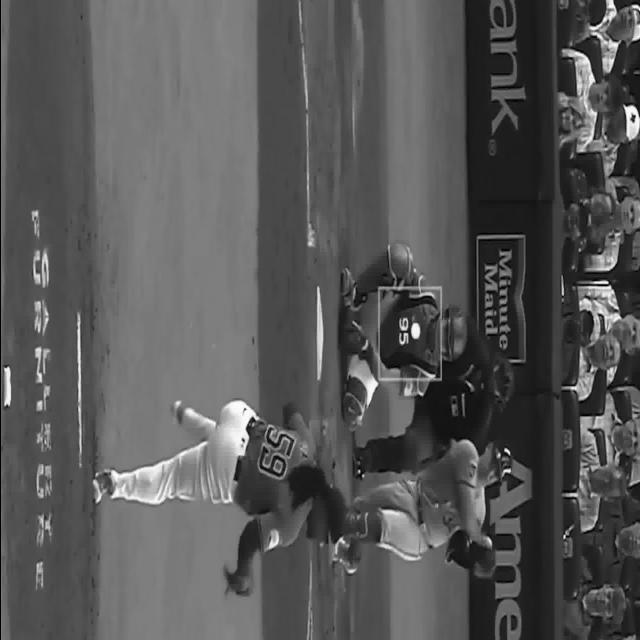baseball_glove: (223, 563, 253, 597)
shoe: (326, 530, 361, 568), (92, 468, 115, 504), (341, 266, 356, 300), (352, 446, 365, 480), (171, 400, 187, 424)
